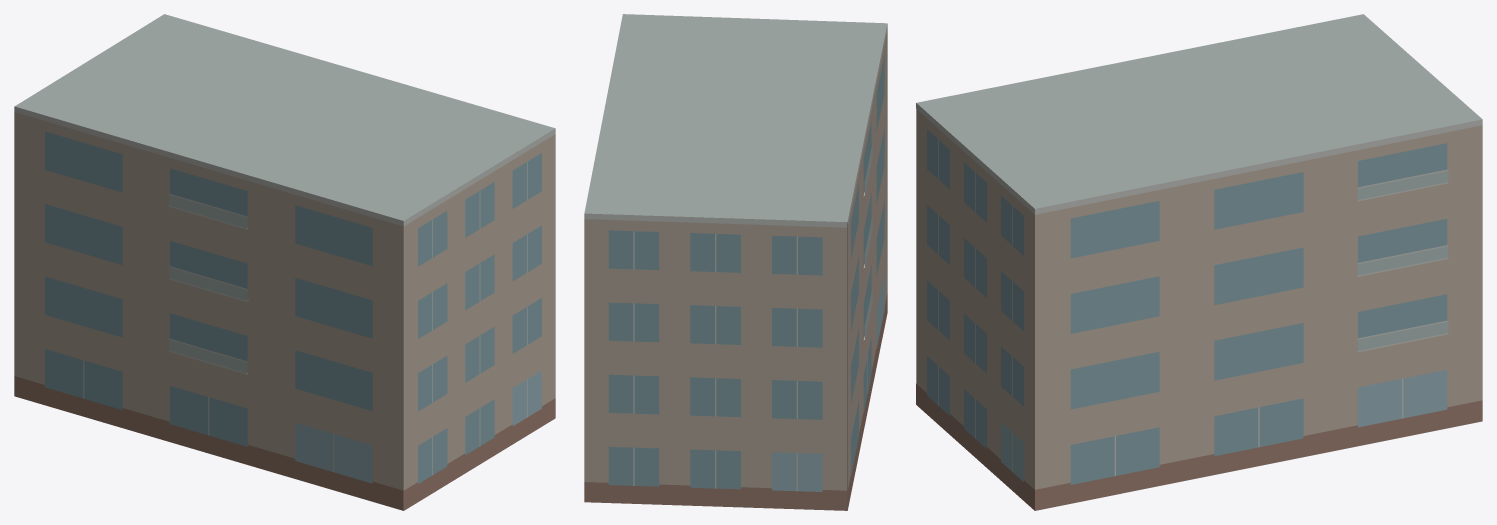
The model's file is survey-upis-32928058.glb.
The picture shows the model from 3 angles, left to right: view 1: azimuth 30°, elevation 25°; view 2: azimuth 150°, elevation 25°; view 3: azimuth 270°, elevation 25°; orthographic projection. The views are drawn at different scales.
Parts seen in each view (by area): view 1: survey-upis-32928058.tmp; view 2: survey-upis-32928058.tmp; view 3: survey-upis-32928058.tmp.
Part boxes in pixels (x1,y1,x2,y2): survey-upis-32928058.tmp: (14, 14, 555, 510); survey-upis-32928058.tmp: (584, 14, 887, 510); survey-upis-32928058.tmp: (916, 14, 1482, 510).
Size of the model in its own units: 17.6 by 12.7 by 21.61.
